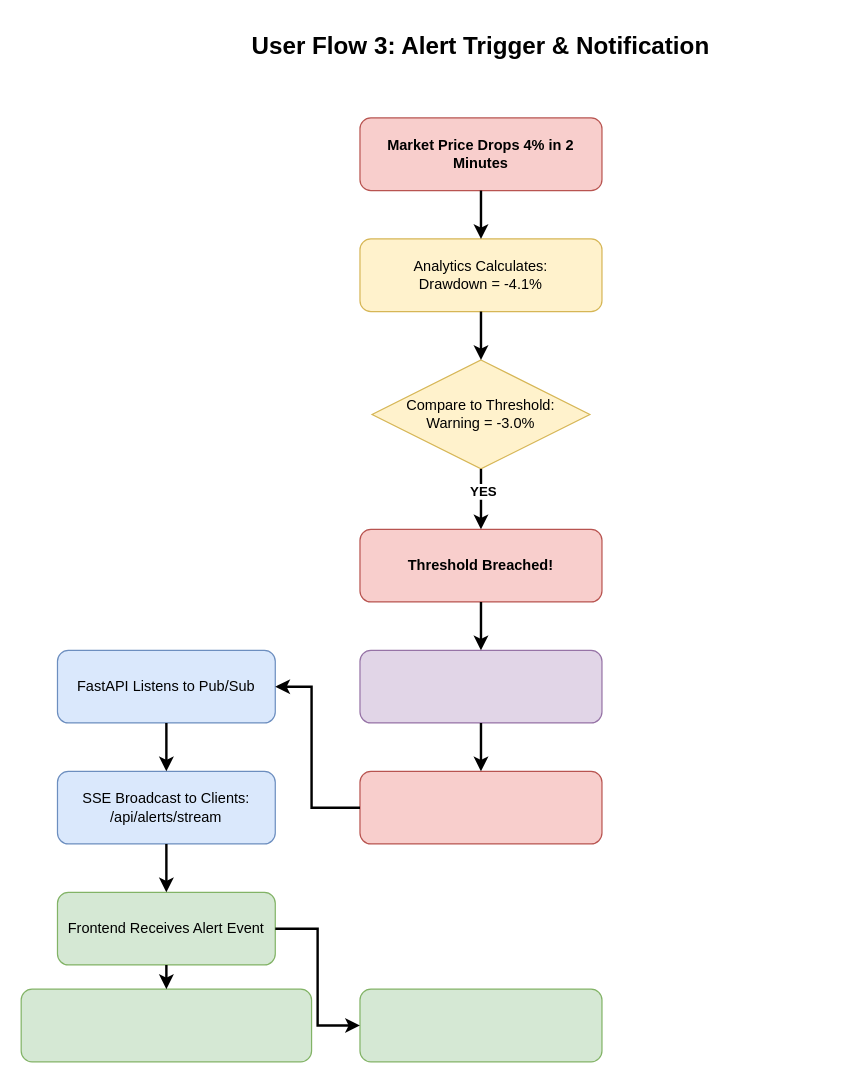
The diagram is 865 pixels wide and 1083 high, and some of its shapes have lost their labels. Here are the shapes that lost their labels. From the top down, the box of each, then its label:
(359, 649, 602, 723): INSERT INTO alerts (...)
(359, 770, 602, 844): PUBLISH to Redis Pub/Sub: 'alerts:realtime'
(20, 988, 312, 1062): Toast Notification: ⚠️ BTCUSDT Drawdown Alert: -4.1%
(359, 988, 602, 1062): Add to AlertLog Component
